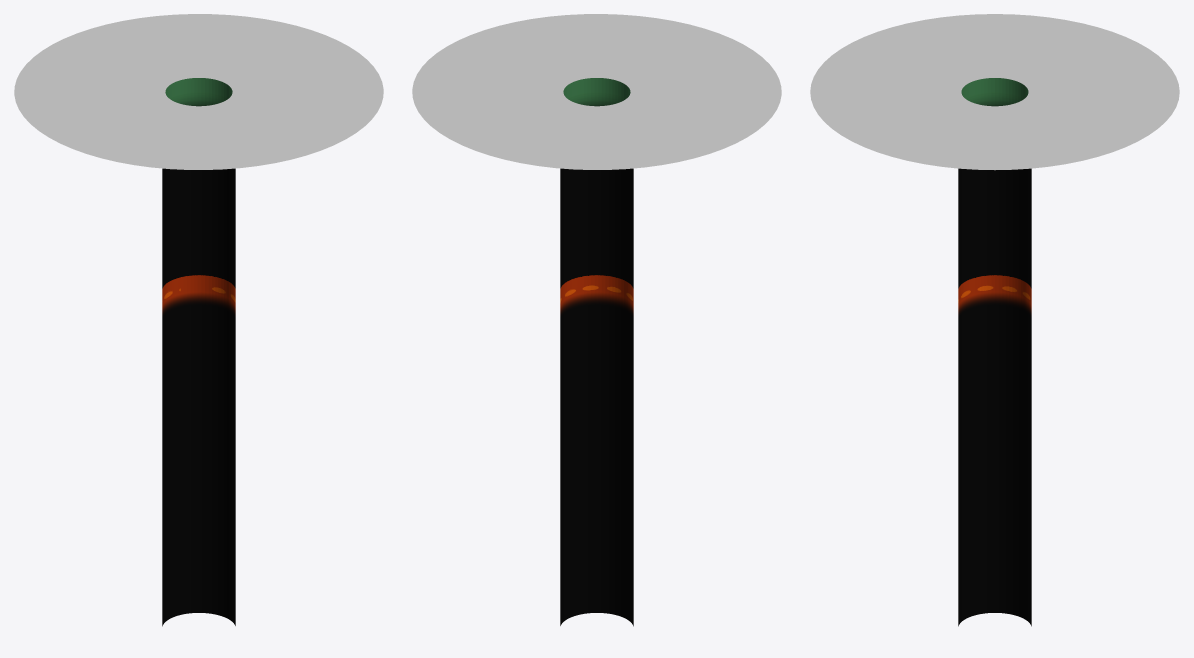
File: HoleSkinCone.fbx
3 views of the same model, side by side, from view 1: azimuth 30°, elevation 25°; view 2: azimuth 150°, elevation 25°; view 3: azimuth 270°, elevation 25° (orthographic).
Visible parts, largest first — view 1: Circle; view 2: Circle; view 3: Circle.
Boxes of the visible parts, left/top/right/bottom form: Circle: left=14, top=14, right=383, bottom=626; Circle: left=412, top=14, right=781, bottom=626; Circle: left=810, top=14, right=1179, bottom=626.
Size of the model in its own units: 220 by 353 by 220.
2 materials, 1 textured.
